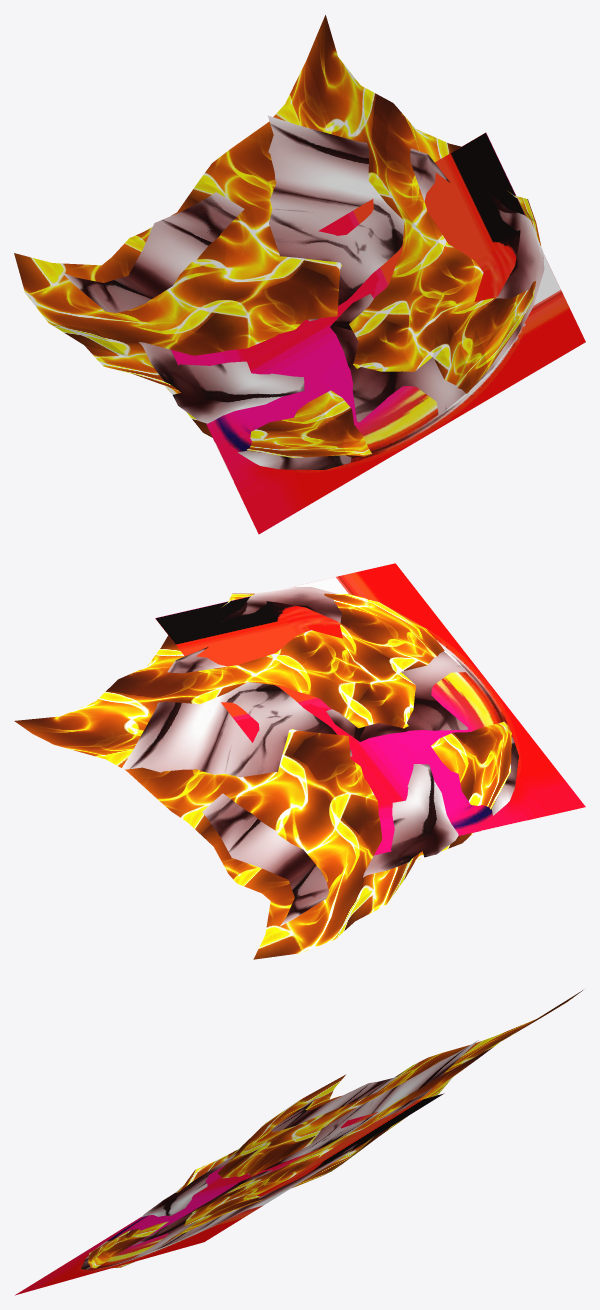
The model's file is slfs_pugong_01.fbx.
3 views of the same model, one above another, from view 1: azimuth 30°, elevation 25°; view 2: azimuth 150°, elevation 25°; view 3: azimuth 330°, elevation 25° (orthographic). The views are drawn at different scales.
Parts seen in each view (by area): view 1: trailE01, trailD01, slashArrow; view 2: trailE01, trailD01, slashArrow; view 3: trailE01, trailD01, slashArrow.
Part boxes in pixels (x1,y1,x2,y2): trailE01: [14, 15, 540, 457]; trailD01: [61, 115, 544, 469]; slashArrow: [171, 132, 585, 534]; trailE01: [14, 593, 511, 959]; trailD01: [120, 586, 518, 926]; slashArrow: [155, 563, 585, 855]; trailE01: [88, 990, 582, 1268]; trailD01: [81, 1040, 478, 1269]; slashArrow: [15, 1093, 444, 1295].
Size of the model in its own units: 5.12 by 3.05 by 9.11.
Materials: 3 (3 with a texture image).
